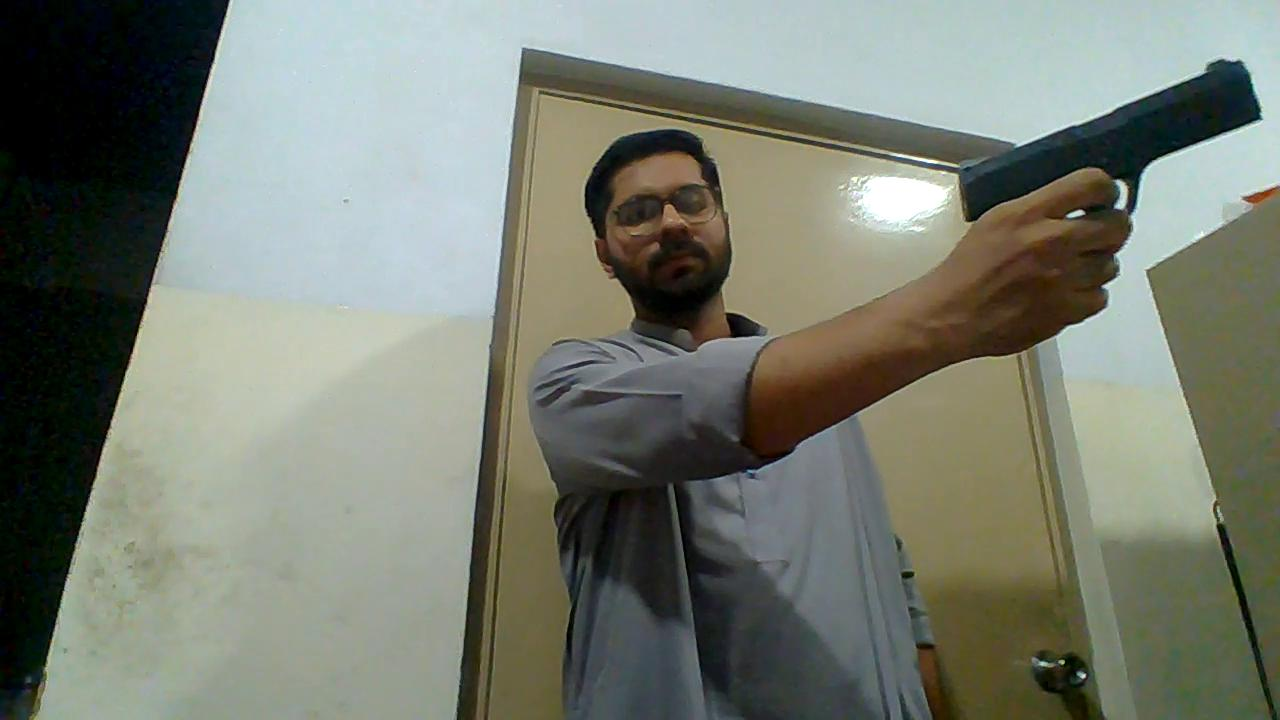criminal: (527, 56, 1264, 720)
weapon: (956, 57, 1264, 228)
